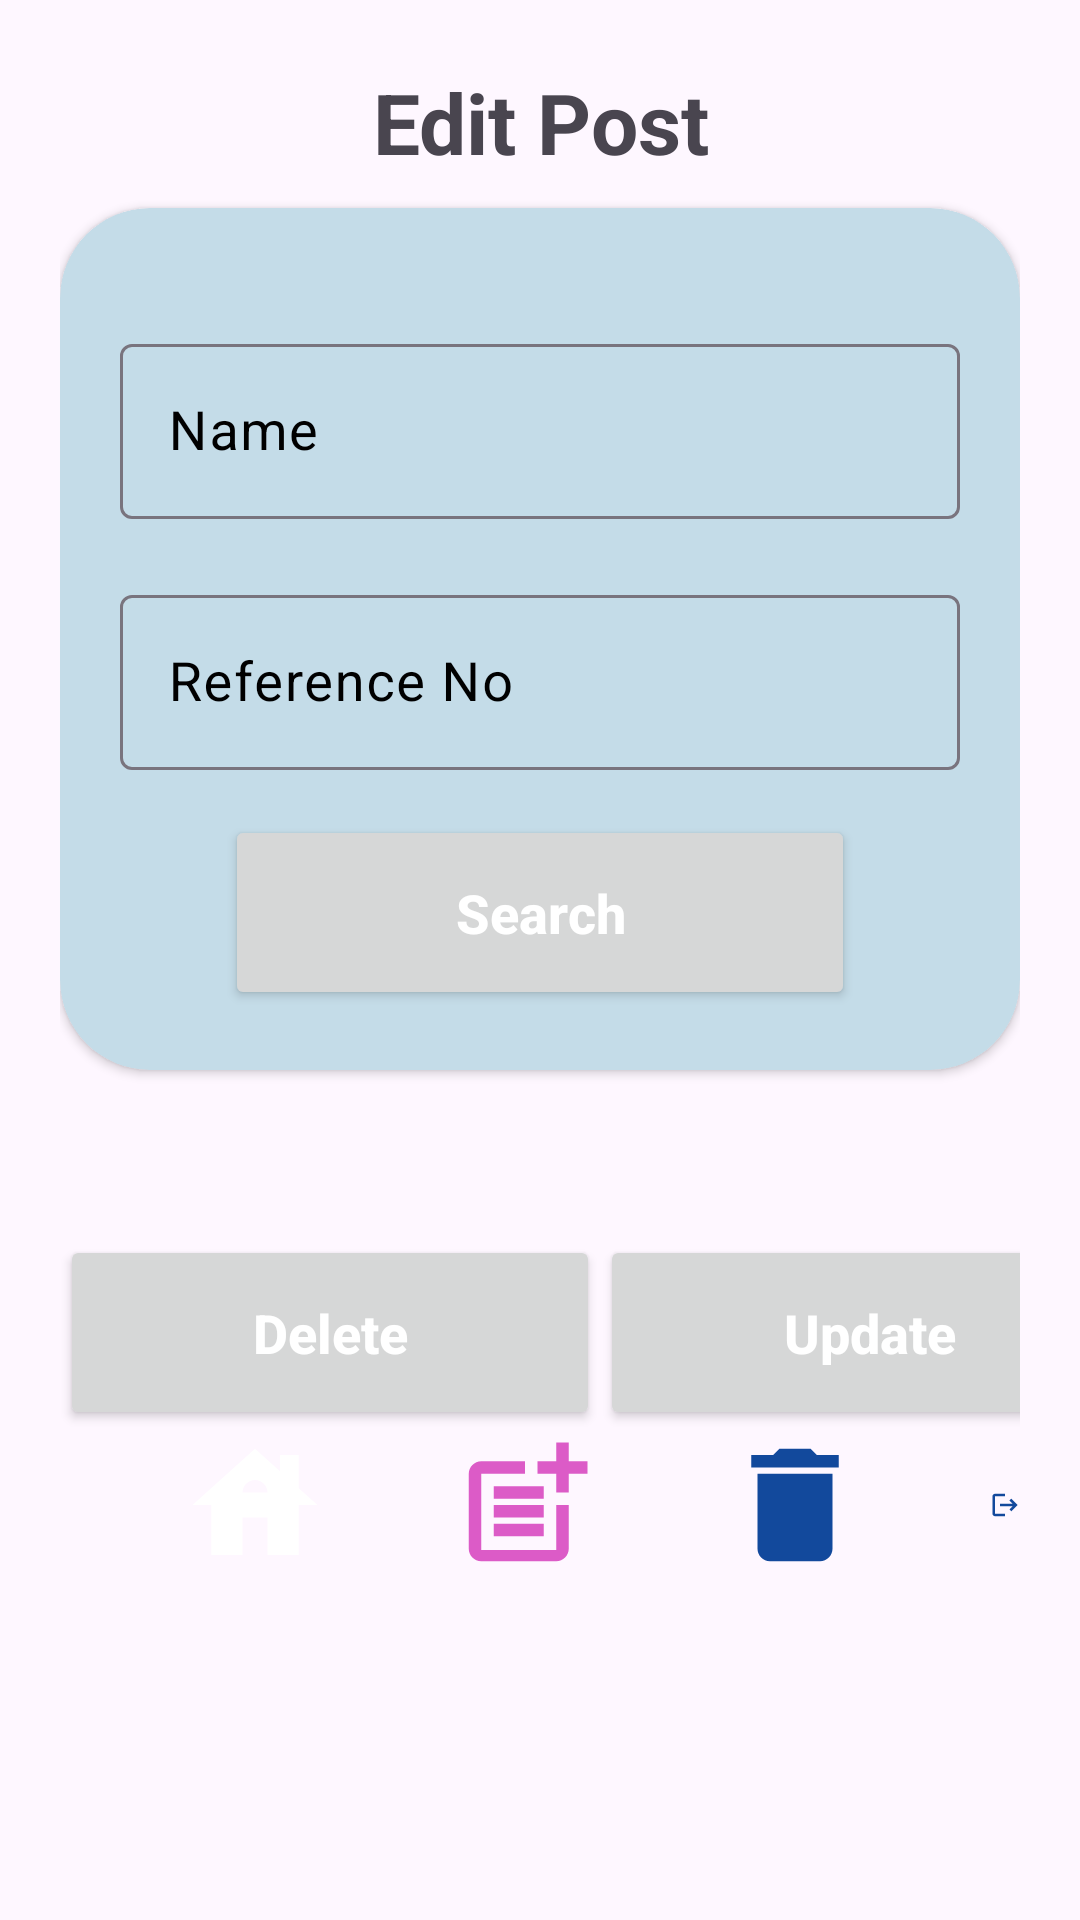

Icons on this 1080x1920 Android screen, each with the point to tap as [x,y]:
post add: [528,1502]
